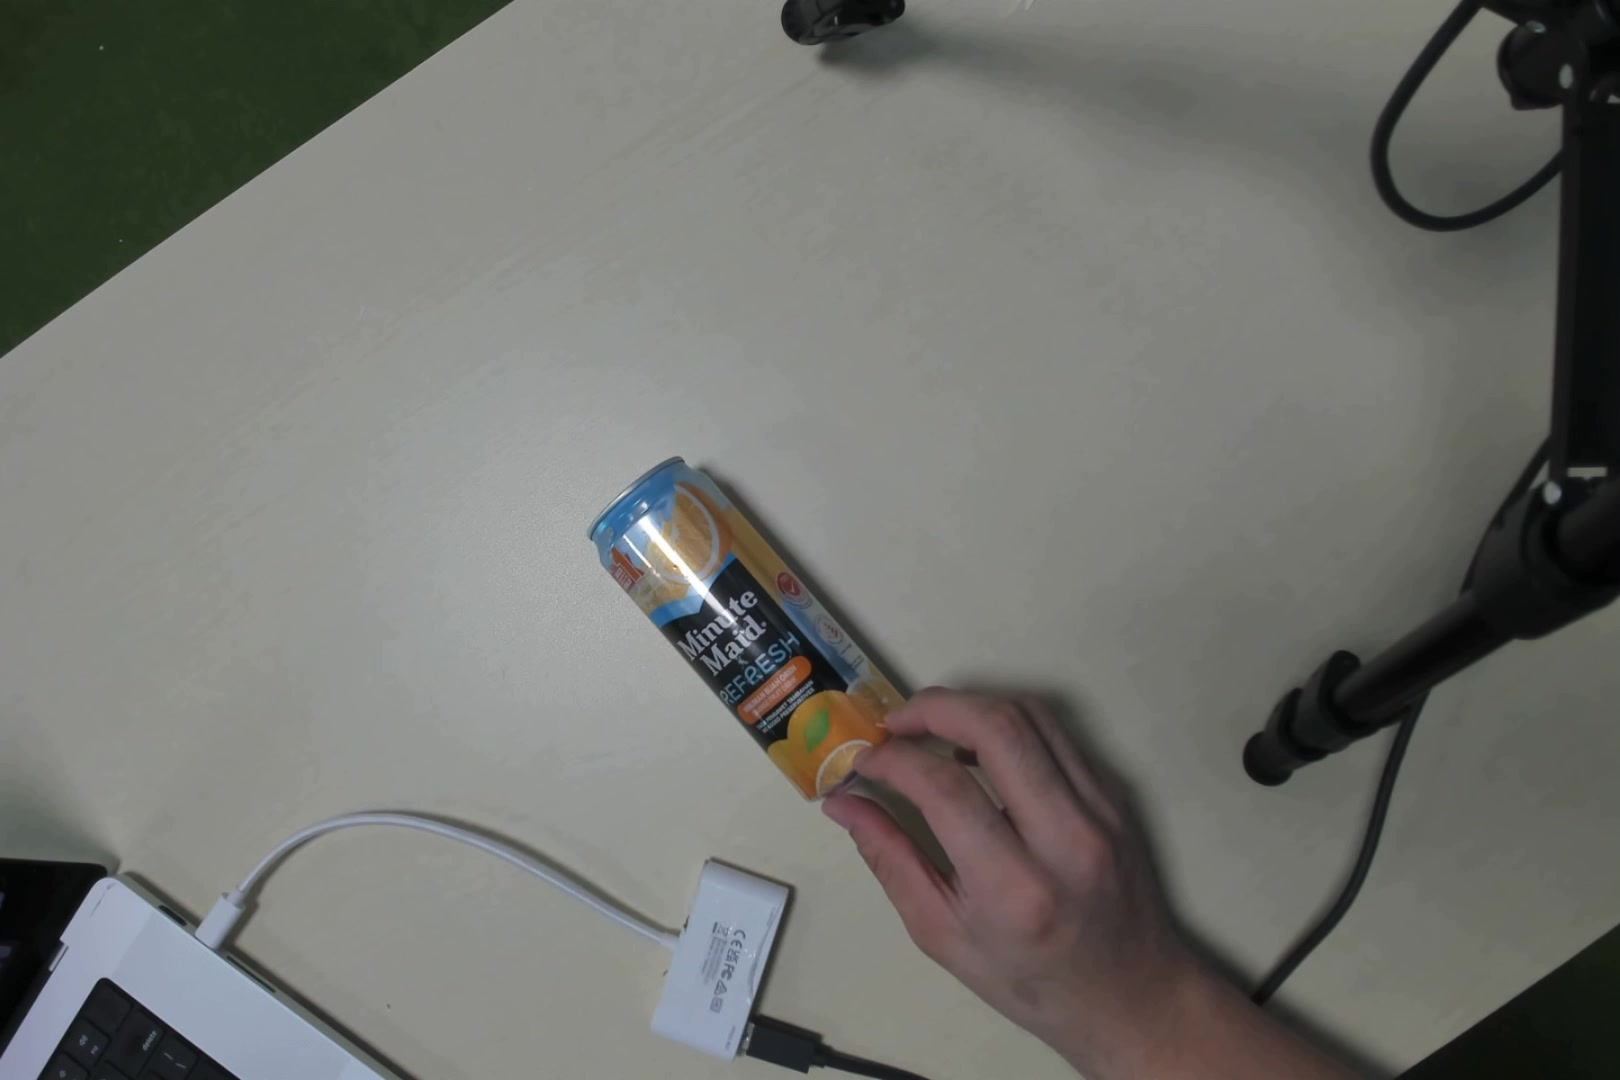SoftDrinks_200-299g_Halal_Healthy: (615, 456, 920, 785)
